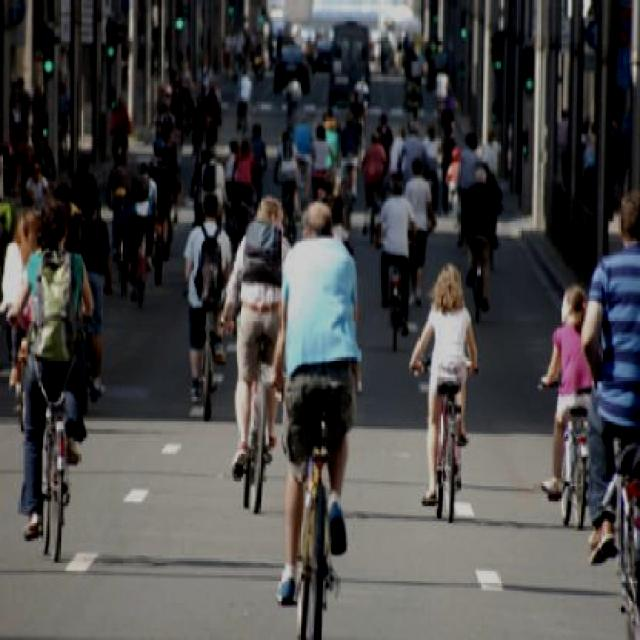Without Helmet: (303, 187, 340, 250), (34, 187, 71, 250), (249, 184, 289, 242), (558, 283, 591, 340), (435, 250, 463, 310), (197, 181, 221, 228)
